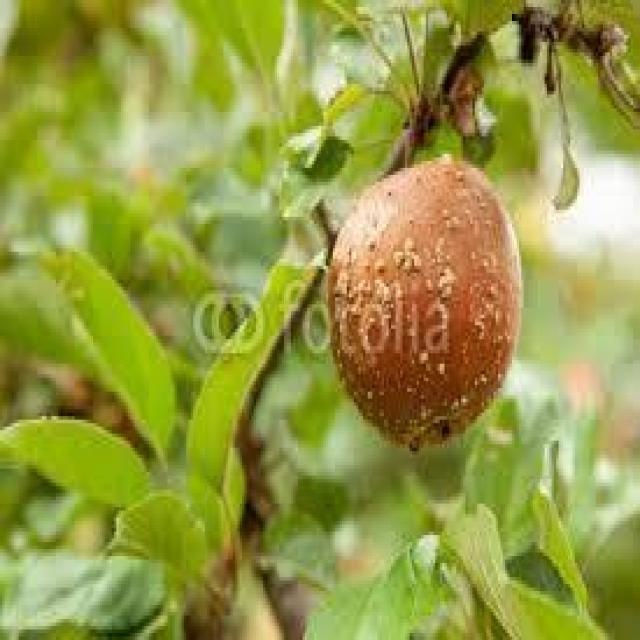maca: (324, 150, 522, 452)
